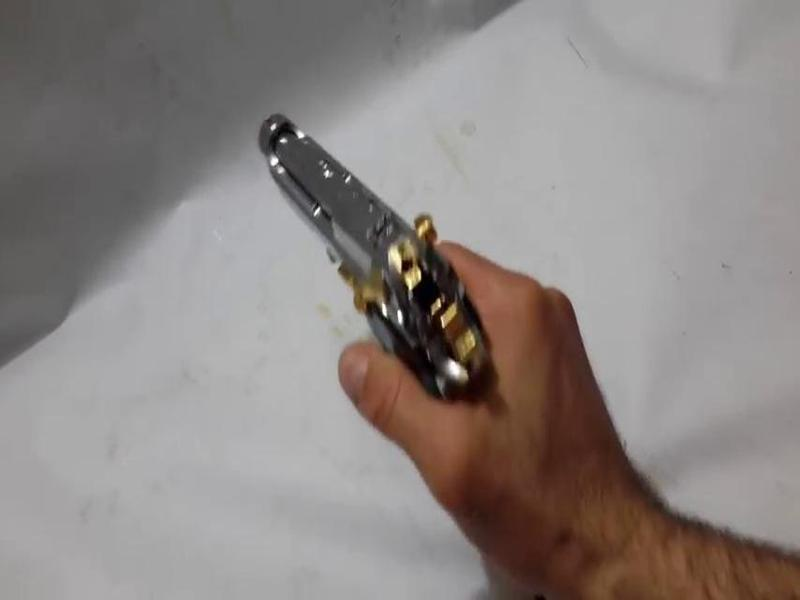Pistola: (247, 91, 532, 446)
